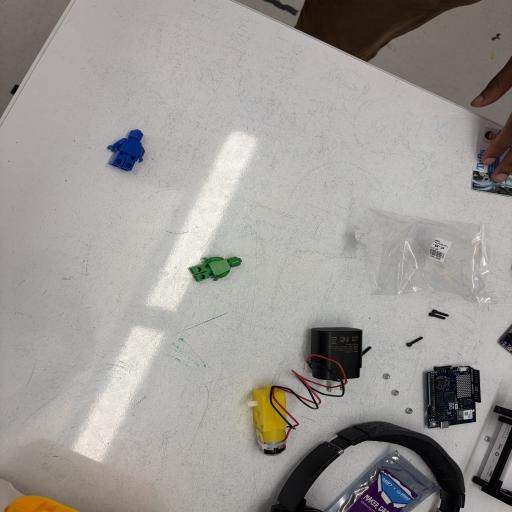Blue-Lego: (118, 129, 140, 171)
Green-Lego: (189, 257, 242, 282)
